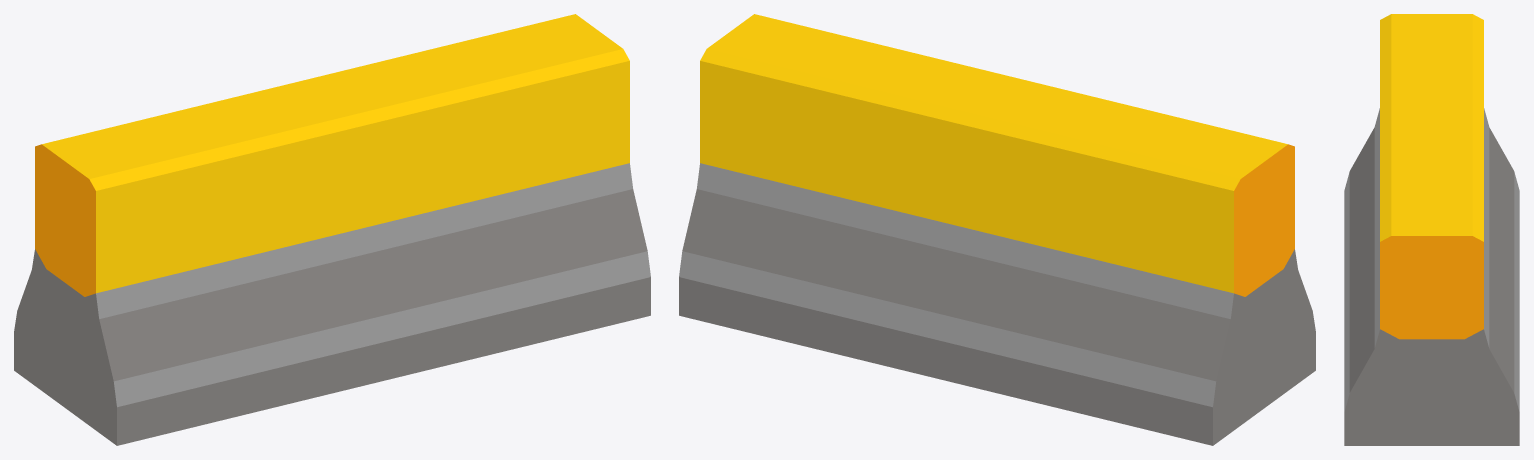
The model's file is Barrier.glb.
3 views of the same model, side by side, from view 1: azimuth 30°, elevation 25°; view 2: azimuth 150°, elevation 25°; view 3: azimuth 270°, elevation 25° (orthographic). The views are drawn at different scales.
Parts seen in each view (by area): view 1: BARRIER; view 2: BARRIER; view 3: BARRIER.
Boxes of the visible parts, box(x1,y1,x2,y2) form: BARRIER: box(14, 14, 650, 445); BARRIER: box(679, 14, 1315, 445); BARRIER: box(1344, 14, 1519, 445).
Size of the model in its own units: 2 by 0.8825 by 0.6683.
